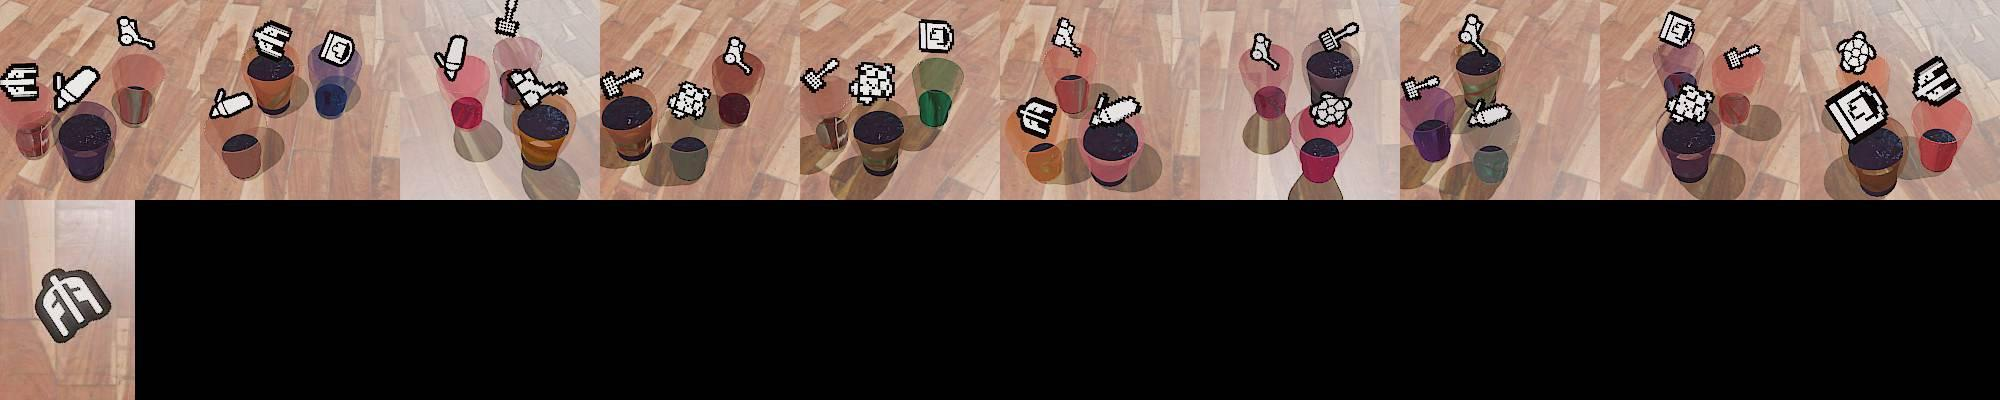icon: (33, 266, 112, 344), (1824, 79, 1889, 143), (508, 66, 569, 110), (1912, 59, 1963, 110), (52, 64, 102, 113), (847, 60, 898, 106), (1665, 80, 1717, 125), (1087, 94, 1145, 131), (665, 79, 712, 120), (250, 19, 293, 62), (1017, 96, 1057, 140), (1835, 31, 1876, 75), (599, 65, 645, 102), (0, 62, 41, 102), (315, 28, 356, 68), (435, 34, 469, 80), (800, 55, 839, 94), (209, 85, 254, 120), (1458, 13, 1491, 57), (1464, 98, 1514, 127), (1310, 92, 1352, 126), (1318, 20, 1360, 55), (1658, 10, 1695, 48), (917, 19, 954, 56), (117, 15, 156, 51), (721, 36, 754, 75), (1050, 17, 1082, 56), (1249, 32, 1281, 71), (1403, 73, 1443, 101), (494, 0, 522, 38), (1723, 43, 1760, 70)
